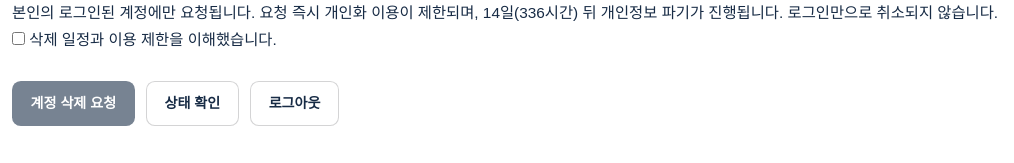
Test: canonical account deletion boundary › sends only operation, requires acknowledgement and server receipt
expect the button "계정 삭제 요청" is disabled: met, box [12, 81, 135, 126]
What coordinates should you click on to do the following:
click the checkbox
I would click on:
 (18, 38)
Its box is [12, 32, 25, 45].
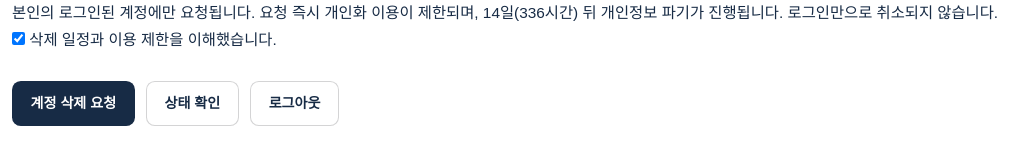
What coordinates should you click on to do the following:
click the button "계정 삭제 요청"
I would click on:
 (73, 103)
Its box is [12, 81, 135, 126].
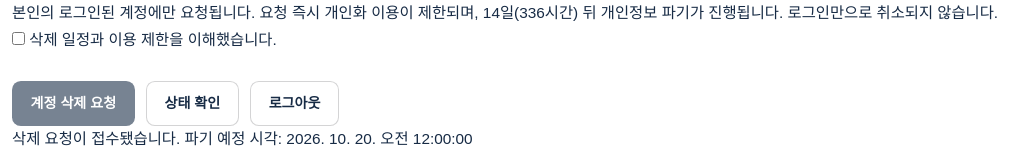
expect the text "삭제 요청이 접수됐습니다" is shown: met, box [12, 130, 180, 147]
